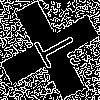T: (25, 25, 81, 75)
